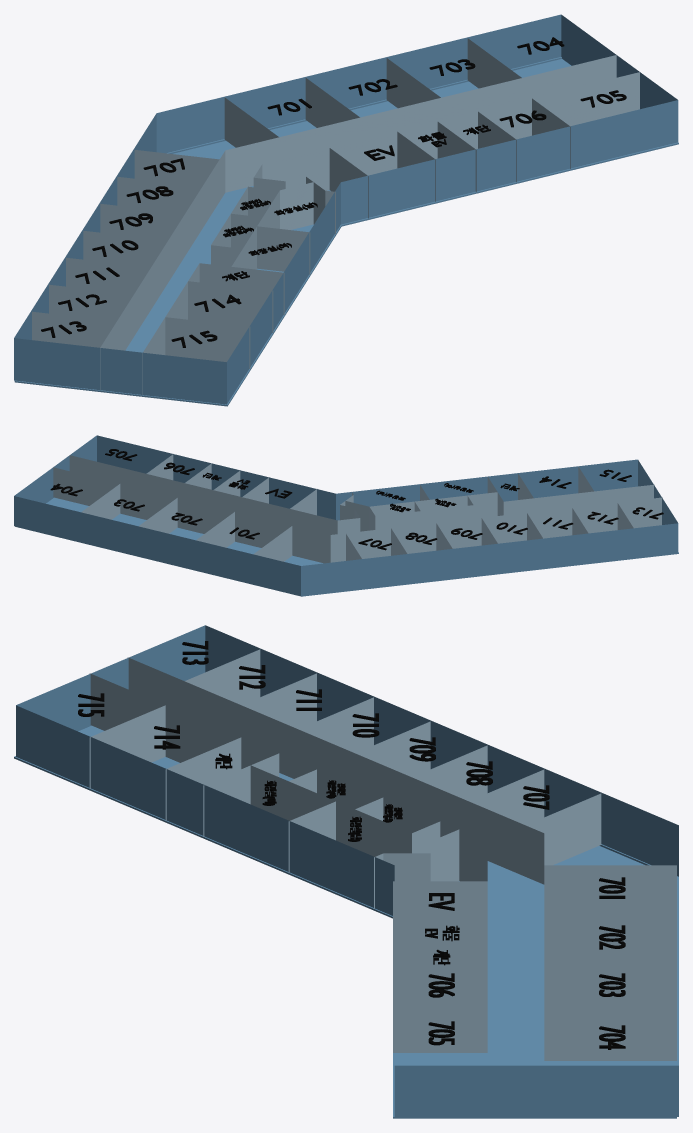
The model's file is 7floor.glb.
3 views of the same model, one above another, from view 1: azimuth 30°, elevation 25°; view 2: azimuth 150°, elevation 25°; view 3: azimuth 270°, elevation 25° (orthographic). The views are drawn at different scales.
Parts seen in each view (by area): view 1: InnerWalls_4F, FloorAndWalls_4F; view 2: FloorAndWalls_4F, InnerWalls_4F; view 3: InnerWalls_4F, FloorAndWalls_4F.
Part boxes in pixels (<box>): InnerWalls_4F: <box>32,38,639,394</box>; FloorAndWalls_4F: <box>14,14,678,406</box>; FloorAndWalls_4F: <box>14,435,678,596</box>; InnerWalls_4F: <box>53,454,662,563</box>; InnerWalls_4F: <box>89,649,676,1060</box>; FloorAndWalls_4F: <box>14,625,678,1118</box>.
Bounding box in the file's own units: 550 × 31.5 × 351.
